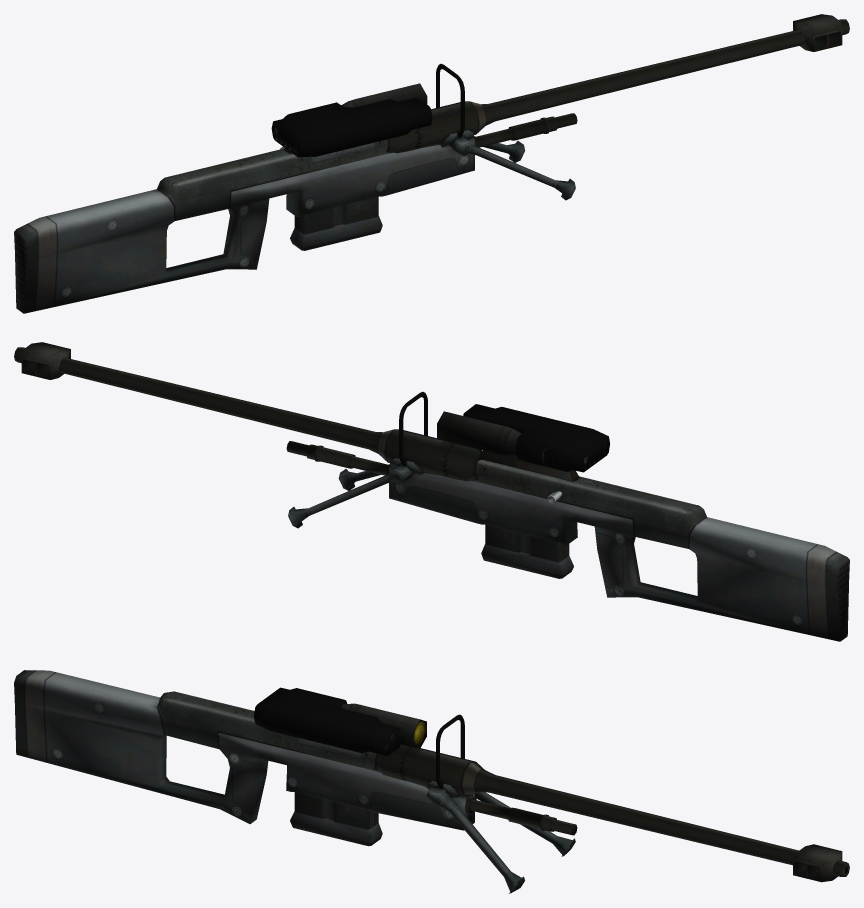
File: sniper_clean.glb
3 views of the same model, one above another, from view 1: azimuth 30°, elevation 25°; view 2: azimuth 150°, elevation 25°; view 3: azimuth 330°, elevation 25° (orthographic).
Parts seen in each view (by area): view 1: Sniper Rifle; view 2: Sniper Rifle; view 3: Sniper Rifle.
Boxes of the visible parts, left/top/right/bottom form: Sniper Rifle: left=14, top=14, right=849, bottom=313; Sniper Rifle: left=14, top=342, right=849, bottom=641; Sniper Rifle: left=14, top=670, right=849, bottom=893.
Size of the model in its own units: 61.91 by 10.72 by 7.78.
2 materials, 2 textured.
